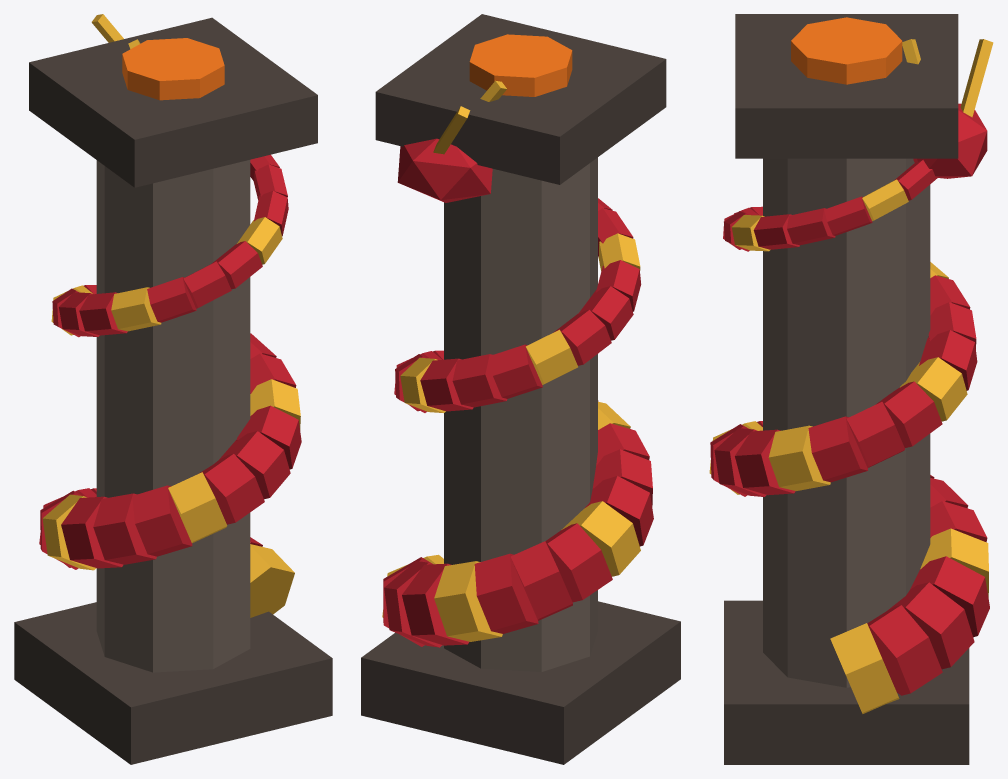
The model's file is DragonPillar.fbx.
3 renders of one model, left to right at view 1: azimuth 30°, elevation 25°; view 2: azimuth 150°, elevation 25°; view 3: azimuth 270°, elevation 25°, orthographic. The views are drawn at different scales.
Visible parts, largest first — view 1: DragonPillar, DragonPillar_Glow; view 2: DragonPillar, DragonPillar_Glow; view 3: DragonPillar, DragonPillar_Glow.
Part boxes in pixels (bbox=[...]): DragonPillar: bbox=[14, 14, 332, 764]; DragonPillar_Glow: bbox=[122, 38, 224, 100]; DragonPillar: bbox=[361, 14, 680, 764]; DragonPillar_Glow: bbox=[469, 34, 572, 96]; DragonPillar: bbox=[709, 14, 993, 764]; DragonPillar_Glow: bbox=[791, 17, 902, 84].
Size of the model in its own units: 258 by 665 by 255.
Materials: 1 (1 with a texture image).
